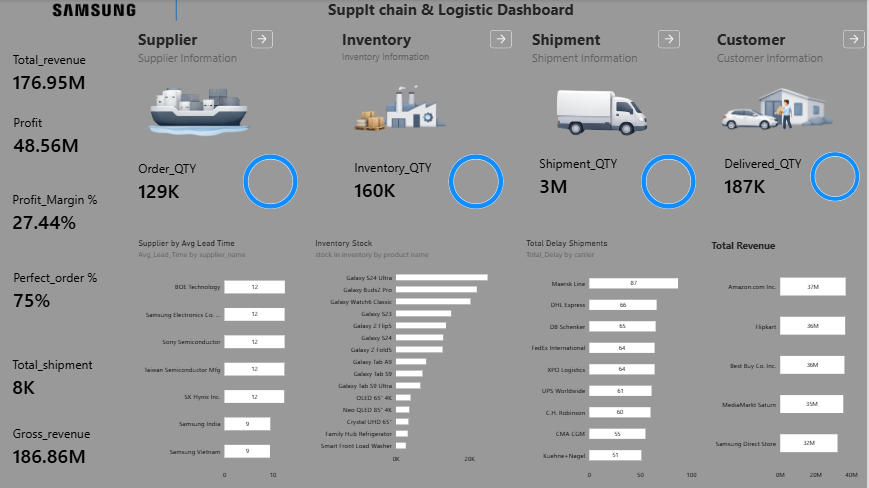

The page's visual inventory and layout, read from the dashboard file:
{"tool":"powerbi","page":{"name":"Page 1","canvas":[1920,1080],"ordinal":0},"visuals":[{"type":"shape","box":[544,68,300,204],"z":0},{"type":"image","box":[253.5,163.1,379.1,145.5],"z":4000},{"type":"image","box":[689.9,163.1,390.1,145.5],"z":5000},{"type":"image","box":[1183.6,169.7,302,145.5],"z":6000},{"type":"image","box":[1591.3,169.7,277.7,138.9],"z":7000},{"type":"actionButton","box":[564.2,68.3,48,40],"z":8000},{"type":"actionButton","box":[1091,68.3,48,40],"z":9000},{"type":"actionButton","box":[1461.3,68.3,48,40],"z":10000},{"type":"actionButton","box":[1869.1,68.3,48,40],"z":11000},{"type":"shape","title":"Supplier","box":[315.2,66.1,306.4,97],"z":12000},{"type":"shape","title":"Inventory","box":[764.8,66.1,390.1,97],"z":13000},{"type":"shape","title":"Shipment","box":[1183.6,66.1,330.6,97],"z":14000},{"type":"shape","title":"Customer","box":[1591.3,66.1,326.2,97],"z":15000},{"type":"shape","title":"Supplt chain & Logistic Dashboard","box":[398.9,0,1212.2,48.5],"z":16000},{"type":"shape","box":[372.5,0,54,48],"z":17000},{"type":"image","box":[0,0,428,48],"z":18000},{"type":"cardVisual","fields":{"Data":["Measure_table.Total_revenue"]},"box":[22,103.6,207.2,116.8],"z":19000},{"type":"cardVisual","fields":{"Data":["Measure_table.Profit"]},"box":[24.2,240.2,205,123.4],"z":20000},{"type":"cardVisual","fields":{"Data":["Measure_table.Profit_Margin %"]},"box":[22,403.3,229.2,136.7],"z":21000},{"type":"cardVisual","fields":{"Data":["Measure_table.Perfect_order %"]},"box":[24.2,581.9,231.4,123.4],"z":22000},{"type":"cardVisual","fields":{"Data":["Measure_table.Total_shipment"]},"box":[22,778,231.4,114.6],"z":23000},{"type":"cardVisual","title":"Gross_revenue","fields":{"Data":["Sum(fact_sales.gross_revenue)"]},"box":[22,930.1,207.2,114.6],"z":24000},{"type":"shape","box":[1501,500.3,300,204],"z":26000},{"type":"cardVisual","fields":{"Data":["Measure_table.Order_QTY"]},"box":[299.8,326.2,229.2,152.1],"z":27000},{"type":"cardVisual","fields":{"Data":["Measure_table.Inventory_Value"]},"box":[775.8,321.8,218.2,156.5],"z":28000},{"type":"cardVisual","fields":{"Data":["Measure_table.Total_shipment_QTY"]},"box":[1183.6,315.2,242.4,152.1],"z":29000},{"type":"cardVisual","fields":{"Data":["Measure_table.Total_Delivered_QTY"]},"box":[1591.3,315.2,209.4,152.1],"z":31000},{"type":"clusteredBarChart","title":"Supplier by Avg Lead Time","fields":{"Category":["dim_supplier.supplier_name"],"Y":["Measure_table.Avg_Lead_Time"]},"box":[299.8,513.6,390.1,566.4],"z":32000},{"type":"clusteredBarChart","title":"Inventory Stock","fields":{"Category":["dim_product.product_name"],"Y":["Measure_table.Inventory_Value"]},"box":[689.9,513.6,465.1,531.2],"z":33000},{"type":"clusteredBarChart","title":"Total Delay Shipments","fields":{"Category":["fact_shipment.carrier"],"Y":["Measure_table.Total_Delay"]},"box":[1154.9,513.6,407.8,566.4],"z":34000},{"type":"clusteredBarChart","title":"Total Revenue ","fields":{"Category":["dim_customer.customer_name"],"Y":["Measure_table.Total_revenue"]},"box":[1562.7,513.6,354.9,566.4],"z":35000},{"type":"donutChart","fields":{"Y":["Measure_table.Order_QTY"]},"box":[524.6,326.2,165.3,152.1],"z":35001},{"type":"donutChart","fields":{"Y":["Measure_table.Inventory_Value"]},"box":[980.8,326.2,158.7,152.1],"z":35002},{"type":"donutChart","fields":{"Y":["Measure_table.Total_shipment_QTY"]},"box":[1401.8,326.2,165.3,152.1],"z":35003},{"type":"donutChart","fields":{"Y":["Measure_table.Total_Delivered_QTY"]},"box":[1783.1,315.2,136.7,152.1],"z":35004}]}

Visuals, with their boxes in screenshot pixels (x1, y1, x2, y2), scaled from the page's 1920x1080 canvas onto the 869x488 screenshot:
shape: locate(246, 31, 382, 123)
image: locate(115, 74, 286, 139)
image: locate(312, 74, 489, 139)
image: locate(536, 77, 672, 142)
image: locate(720, 77, 846, 139)
actionButton: locate(255, 31, 277, 49)
actionButton: locate(494, 31, 516, 49)
actionButton: locate(661, 31, 683, 49)
actionButton: locate(846, 31, 868, 49)
"Supplier" shape: locate(143, 30, 281, 74)
"Inventory" shape: locate(346, 30, 523, 74)
"Shipment" shape: locate(536, 30, 685, 74)
"Customer" shape: locate(720, 30, 868, 74)
"Supplt chain & Logistic Dashboard" shape: locate(181, 0, 729, 22)
shape: locate(169, 0, 193, 22)
image: locate(0, 0, 194, 22)
cardVisual - Measure_table.Total_revenue: locate(10, 47, 104, 100)
cardVisual - Measure_table.Profit: locate(11, 109, 104, 164)
cardVisual - Measure_table.Profit_Margin %: locate(10, 182, 114, 244)
cardVisual - Measure_table.Perfect_order %: locate(11, 263, 116, 319)
cardVisual - Measure_table.Total_shipment: locate(10, 352, 115, 403)
"Gross_revenue" cardVisual: locate(10, 420, 104, 472)
shape: locate(679, 226, 815, 318)
cardVisual - Measure_table.Order_QTY: locate(136, 147, 239, 216)
cardVisual - Measure_table.Inventory_Value: locate(351, 145, 450, 216)
cardVisual - Measure_table.Total_shipment_QTY: locate(536, 142, 645, 211)
cardVisual - Measure_table.Total_Delivered_QTY: locate(720, 142, 815, 211)
"Supplier by Avg Lead Time" clusteredBarChart: locate(136, 232, 312, 487)
"Inventory Stock" clusteredBarChart: locate(312, 232, 523, 472)
"Total Delay Shipments" clusteredBarChart: locate(523, 232, 707, 487)
"Total Revenue " clusteredBarChart: locate(707, 232, 868, 487)
donutChart - Measure_table.Order_QTY: locate(237, 147, 312, 216)
donutChart - Measure_table.Inventory_Value: locate(444, 147, 516, 216)
donutChart - Measure_table.Total_shipment_QTY: locate(634, 147, 709, 216)
donutChart - Measure_table.Total_Delivered_QTY: locate(807, 142, 868, 211)
